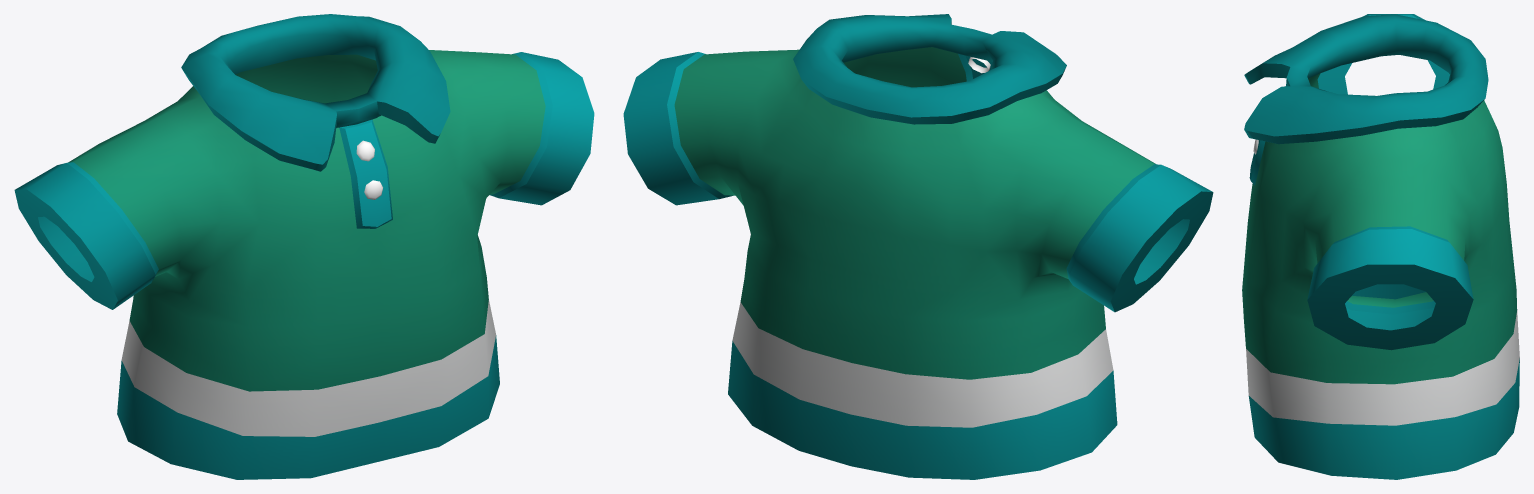
File: Outwear_55.glb
3 renders of one model, left to right at view 1: azimuth 30°, elevation 25°; view 2: azimuth 150°, elevation 25°; view 3: azimuth 270°, elevation 25°, orthographic. The views are drawn at different scales.
Parts seen in each view (by area): view 1: Outwear_55; view 2: Outwear_55; view 3: Outwear_55.
Part boxes in pixels (x1,y1,x2,y2): Outwear_55: (14,14,594,479); Outwear_55: (623,14,1213,479); Outwear_55: (1242,14,1519,479).
Bounding box in the file's own units: 0.4183 × 0.2743 × 0.196.
1 material, 1 textured.
